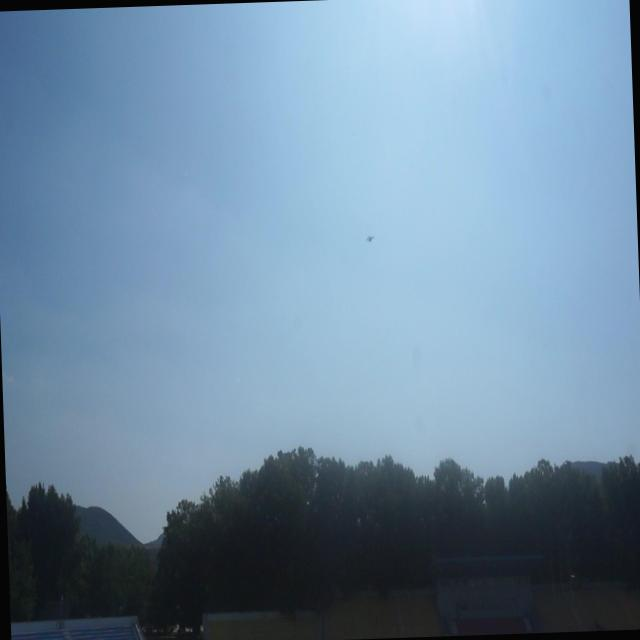drone: (362, 226, 376, 246)
